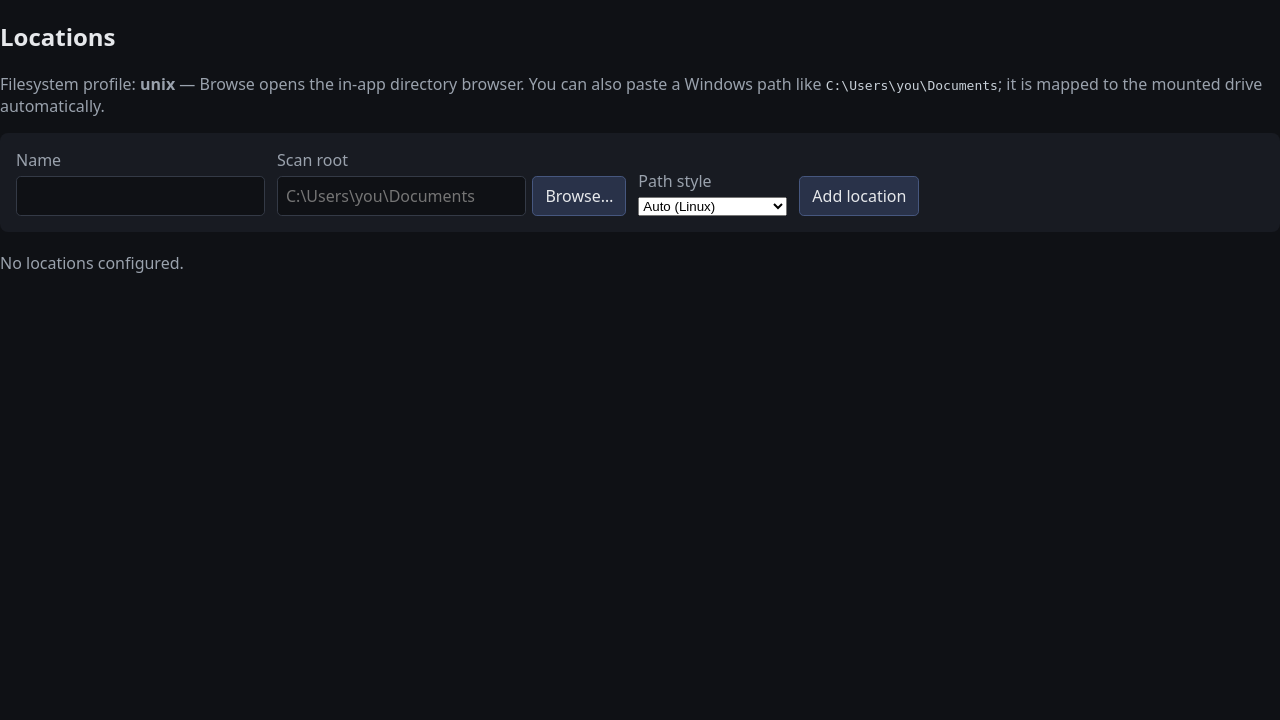
Scenario: browse picker (web fallback) fills the scan-root input
Expected: the text "No locations configured." is shown, [0,252,184,274]
What coordinates should you click on to do the following:
click the button "Browse…"
I would click on:
 (579, 196)
Its box is [532,176,626,216].
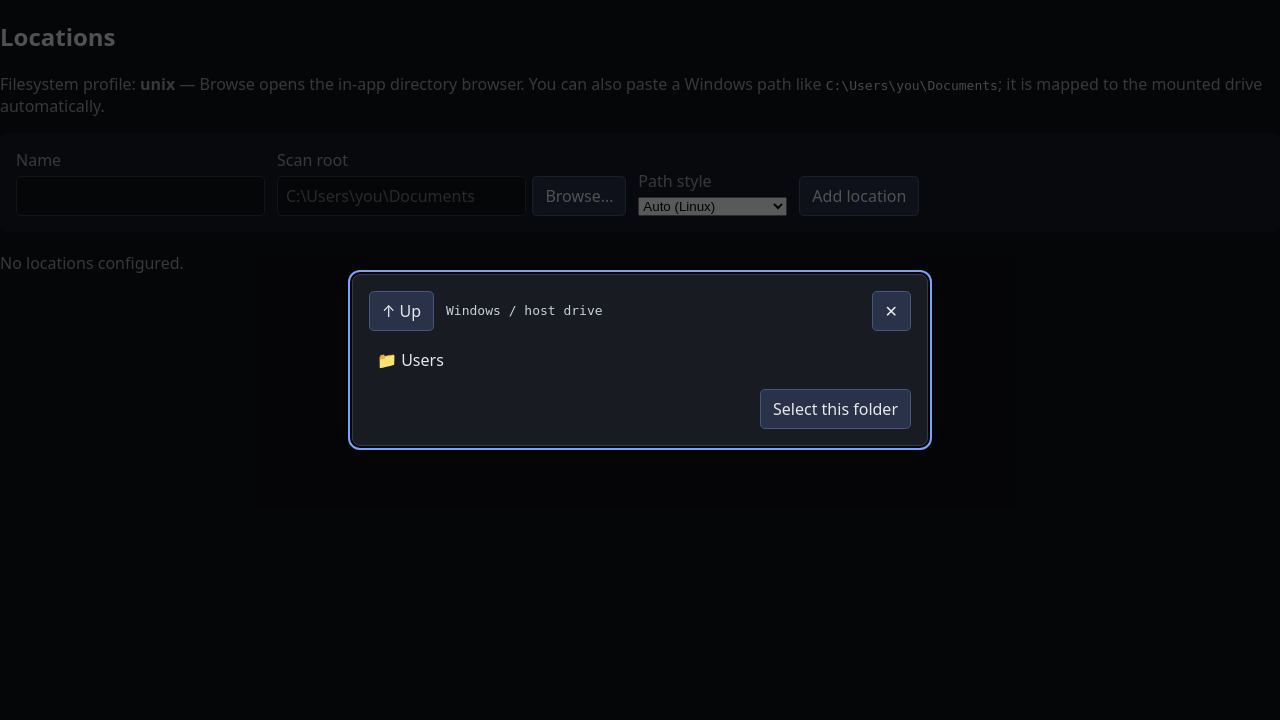
What coordinates should you click on to do the following:
click the button "📁 Users"
I would click on:
 (422, 360)
Its box is [369,343,911,377].
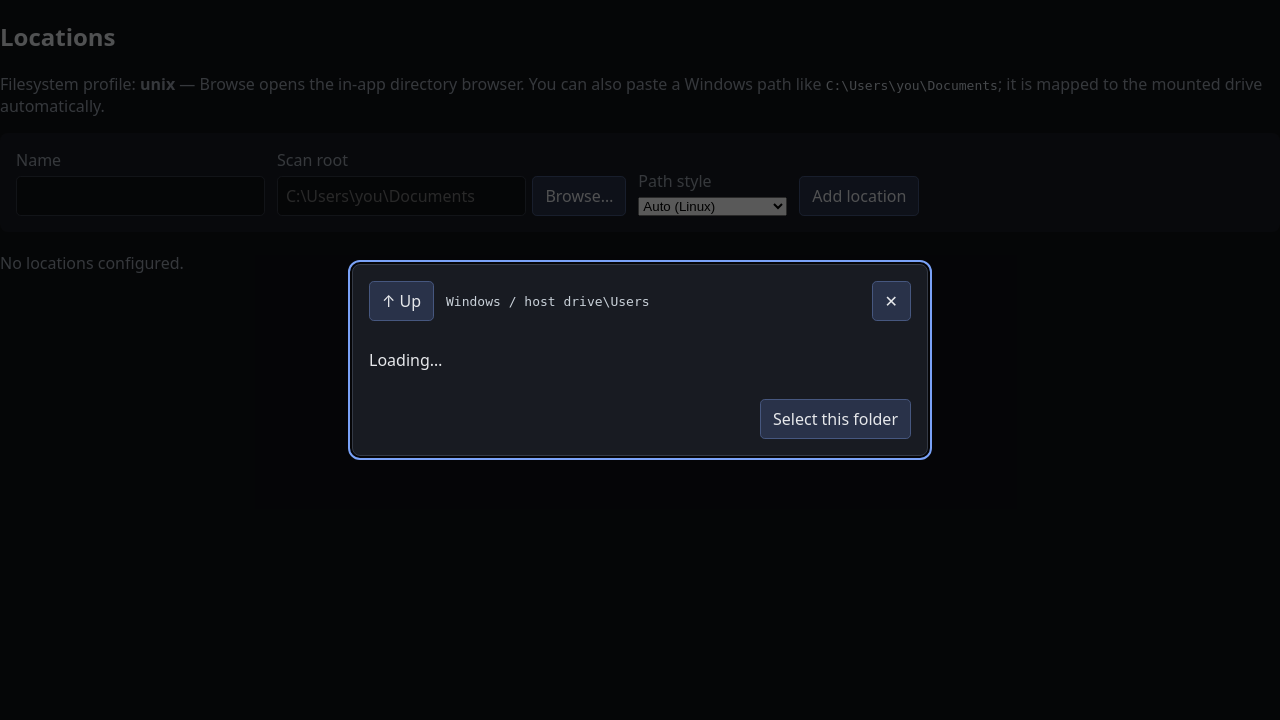
What coordinates should you click on to do the following:
click the button "Select this folder"
I would click on:
 (836, 419)
Its box is [760,399,911,439].
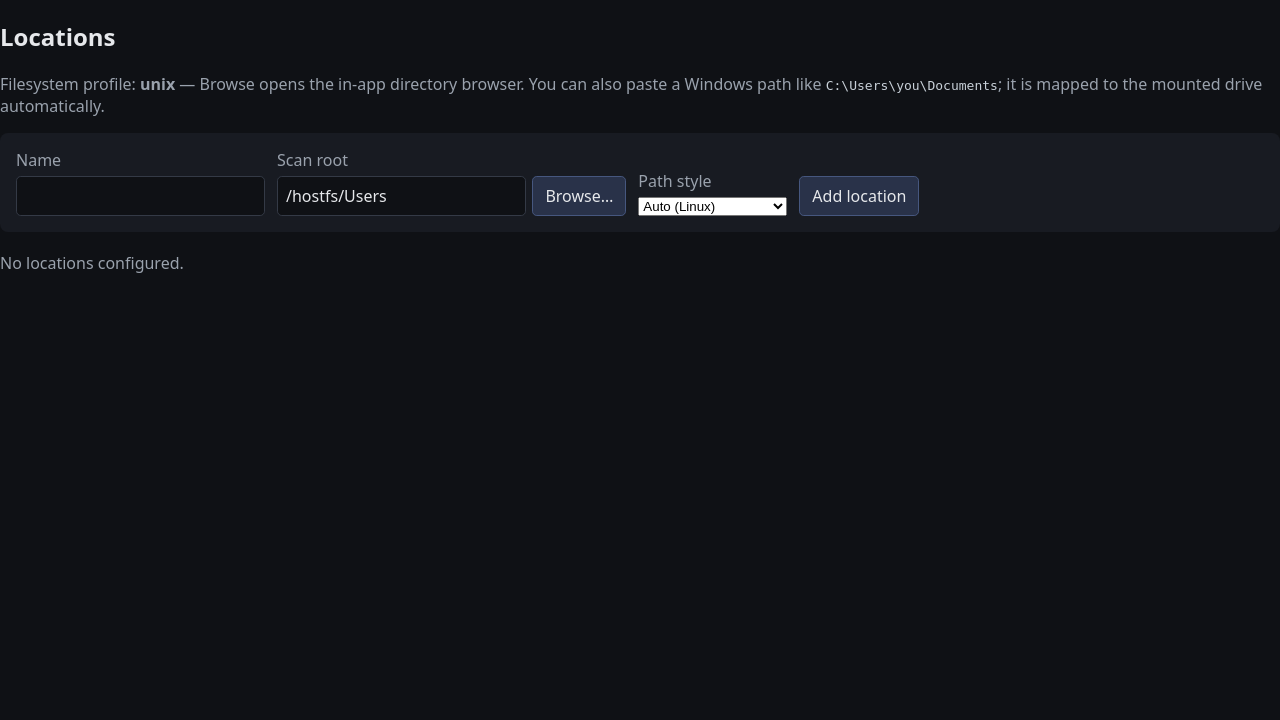
Expected: the field labelled "Scan root" holds "/hostfs/Users", [277,176,526,216]
Expected: the dialog is gone
